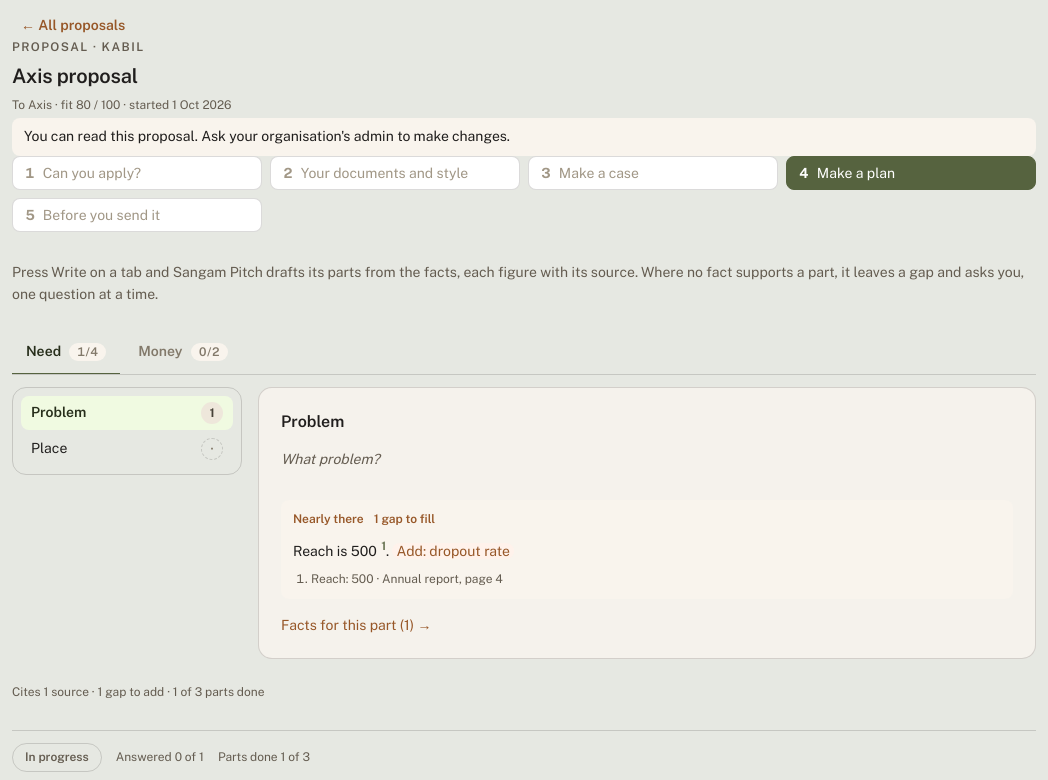
Test: step 4: make a plan › shows a reader the draft or that it is not written
Expected: the list named "Sources" reads "Reach: 500 · Annual report, page 4", [311,572,503,586]
Click the button "Place ·". click: (127, 449)
box: [21,432,233,466]
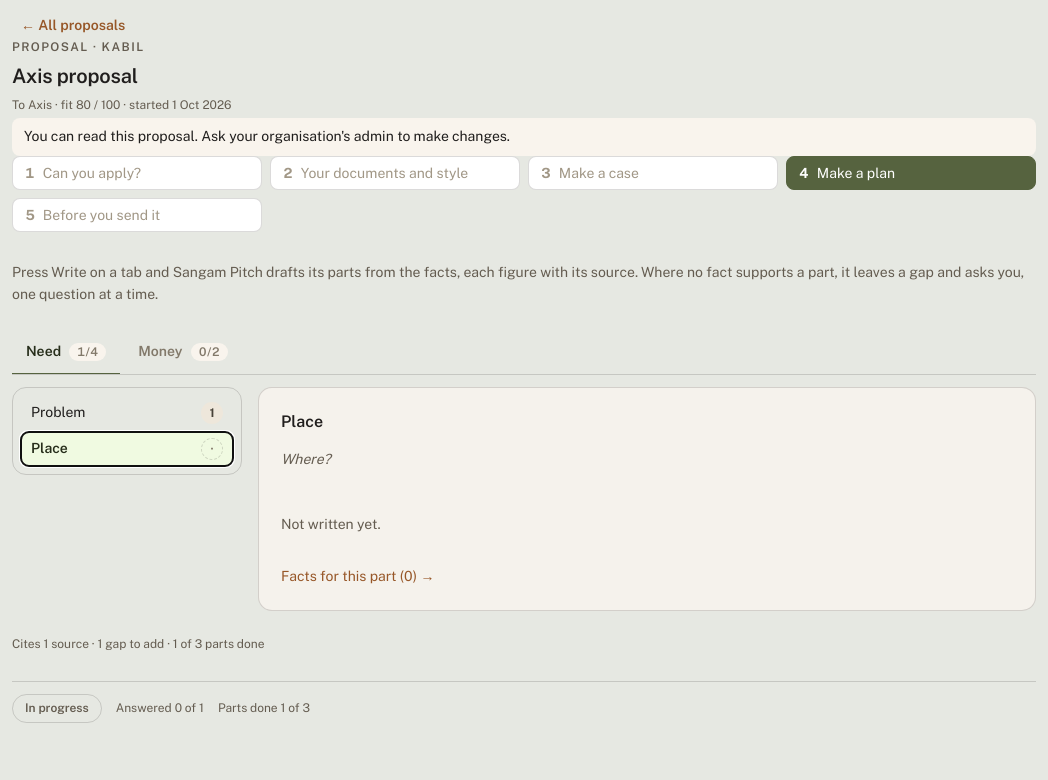
Expected: the text named "Not written" is shown, [201,438,223,460]
Now the text "Not written yet." is shown, box [281,516,381,532]
